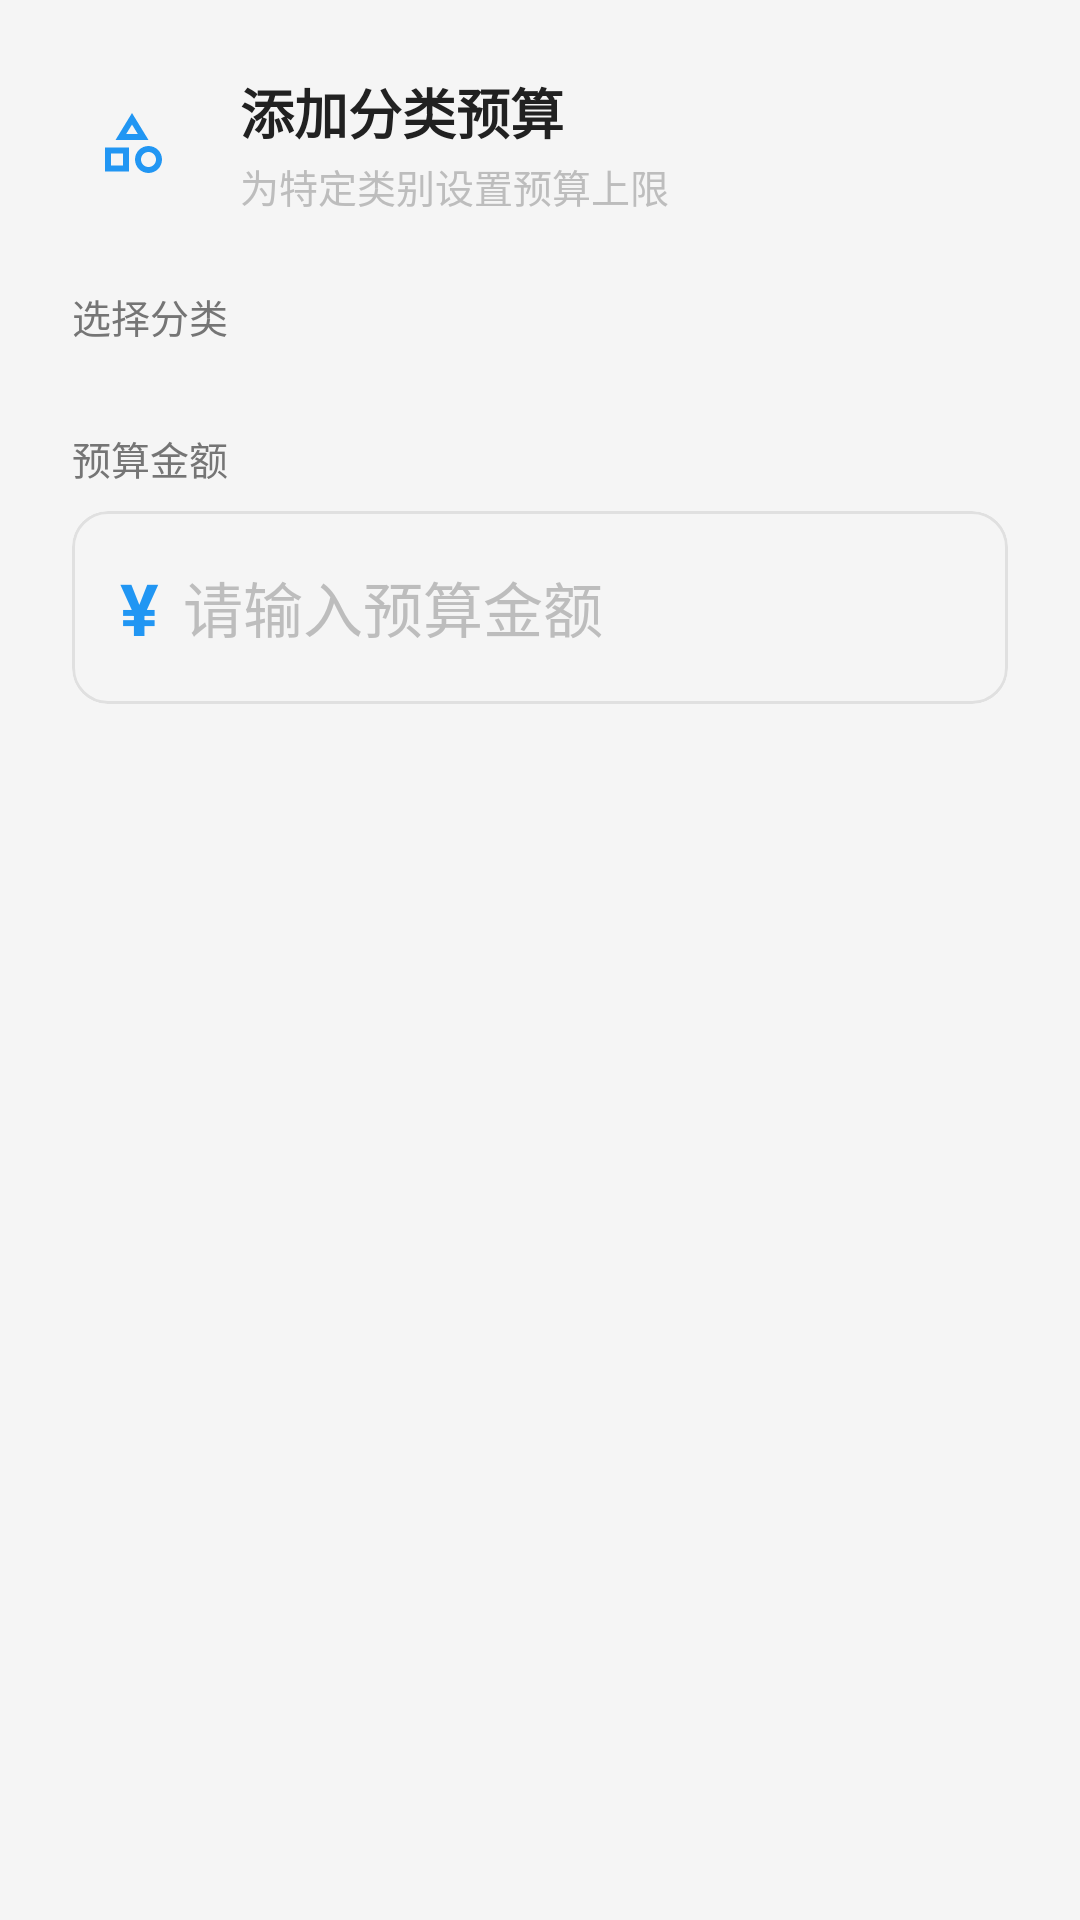

Where icons sit on this 1080*1920 app screen, as (x1, y1, x2, y2):
category: (105, 113, 162, 173)
